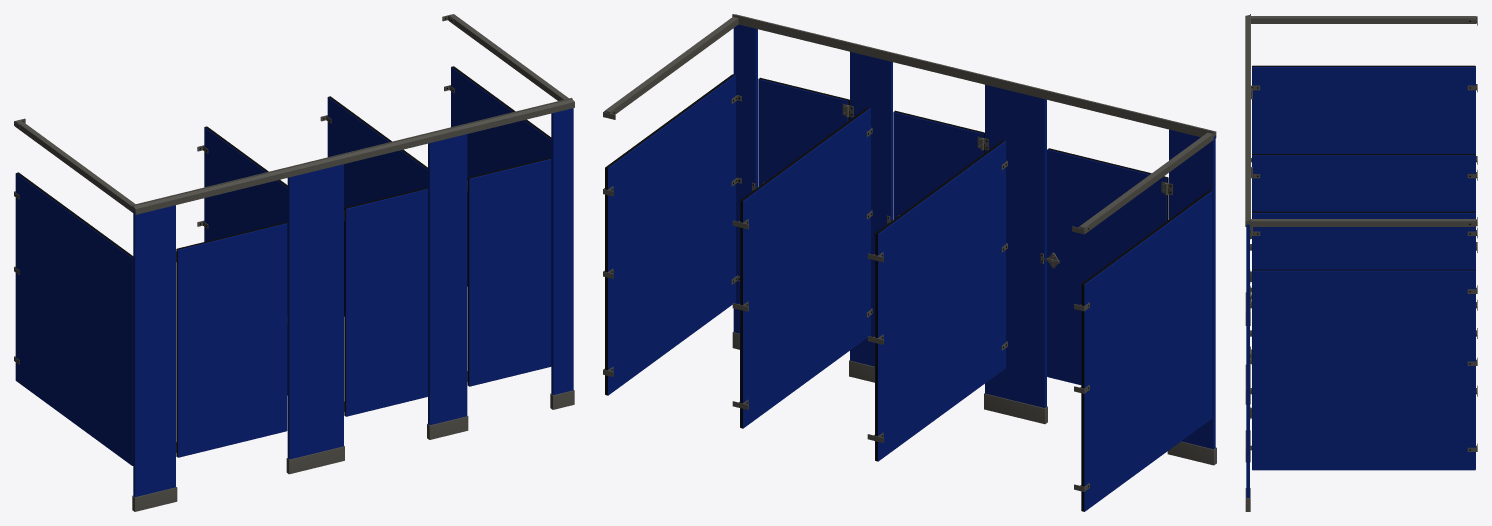
File: uploads_files_781084_Toilet+Stall-002.FBX
The picture shows the model from 3 angles, left to right: view 1: azimuth 30°, elevation 25°; view 2: azimuth 150°, elevation 25°; view 3: azimuth 270°, elevation 25°; orthographic projection. The views are drawn at different scales.
Visible parts, largest first — view 1: Toilet Divider-010, Plane024, Plane025, Plane023, Toilet Divider-011, Toilet Panel-002, Toilet Divider-006, Toilet Divider-007, Toilet Divider-005, Toilet Divider-008, Toilet Divider-009, Toilet Top Mount-006 (+5 smaller); view 2: Toilet Divider-010, Toilet Divider-005, Toilet Divider-009, Toilet Divider-008, Plane024, Toilet Divider-011, Plane023, Plane025, Toilet Divider-006, Toilet Top Mount-006, Toilet Divider-007, Toilet Panel-002 (+4 smaller); view 3: Toilet Divider-009, Toilet Divider-010, Toilet Divider-005, Toilet Divider-008, Toilet Top Mount-004, Toilet Top Mount-005, Toilet Top Mount-006, Toilet Divider-007.
Part boxes in pixels (bbox=[...]): Toilet Divider-010: bbox=[15, 172, 133, 465]; Plane024: bbox=[176, 222, 287, 457]; Plane025: bbox=[467, 158, 551, 386]; Plane023: bbox=[344, 188, 427, 416]; Toilet Divider-011: bbox=[287, 164, 343, 459]; Toilet Panel-002: bbox=[133, 205, 175, 497]; Toilet Divider-006: bbox=[428, 134, 467, 425]; Toilet Divider-007: bbox=[551, 108, 573, 394]; Toilet Divider-005: bbox=[204, 126, 287, 395]; Toilet Divider-008: bbox=[327, 96, 427, 316]; Toilet Divider-009: bbox=[451, 66, 551, 286]; Toilet Top Mount-006: bbox=[132, 98, 574, 214]; Toilet Divider-010: bbox=[1081, 190, 1212, 511]; Toilet Divider-005: bbox=[875, 140, 1005, 461]; Toilet Divider-009: bbox=[605, 74, 735, 395]; Toilet Divider-008: bbox=[740, 107, 870, 428]; Plane024: bbox=[1047, 148, 1168, 385]; Toilet Divider-011: bbox=[985, 84, 1046, 407]; Plane023: bbox=[893, 110, 984, 219]; Plane025: bbox=[758, 77, 849, 186]; Toilet Divider-006: bbox=[850, 51, 892, 366]; Toilet Top Mount-006: bbox=[732, 14, 1216, 139]; Toilet Divider-007: bbox=[733, 24, 757, 333]; Toilet Panel-002: bbox=[1169, 129, 1215, 449]; Toilet Divider-009: bbox=[1252, 269, 1475, 470]; Toilet Divider-010: bbox=[1252, 65, 1475, 153]; Toilet Divider-005: bbox=[1252, 154, 1475, 211]; Toilet Divider-008: bbox=[1252, 211, 1475, 269]; Toilet Top Mount-004: bbox=[1251, 16, 1475, 23]; Toilet Top Mount-005: bbox=[1251, 219, 1475, 226]; Toilet Top Mount-006: bbox=[1245, 14, 1250, 226]; Toilet Divider-007: bbox=[1246, 224, 1249, 497].
Bounding box in the file's own units: 128 × 85 × 61.25.
